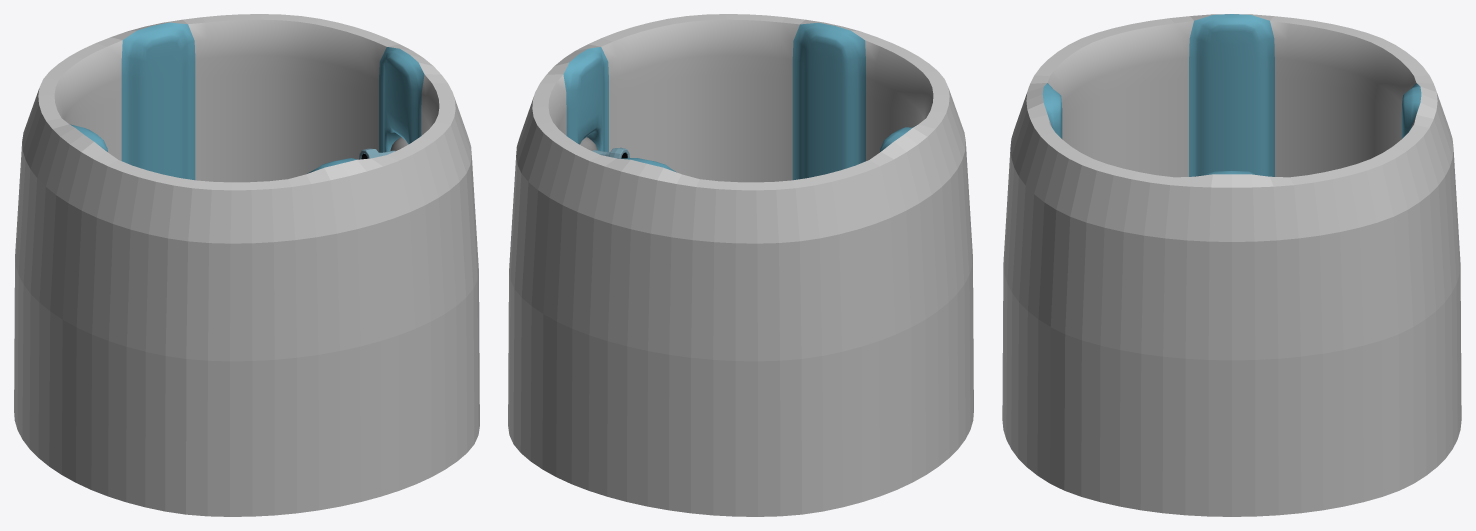
Rendered from lavadora_prueba.fbx.
3 renders of one model, left to right at view 1: azimuth 30°, elevation 25°; view 2: azimuth 150°, elevation 25°; view 3: azimuth 270°, elevation 25°, orthographic.
Parts seen in each view (by area): view 1: Plane.001; view 2: Plane.001; view 3: Plane.001.
Part boxes in pixels (bbox=[...]): Plane.001: bbox=[14, 14, 479, 516]; Plane.001: bbox=[508, 14, 973, 516]; Plane.001: bbox=[1002, 14, 1461, 516].
Size of the model in its own units: 4805 by 3762 by 4805.
